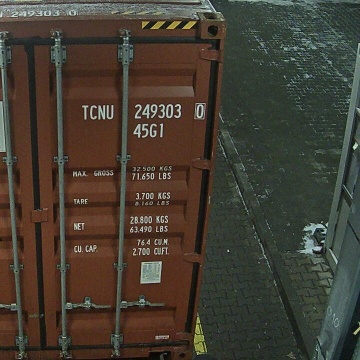serial_id: (82, 104, 203, 119)
